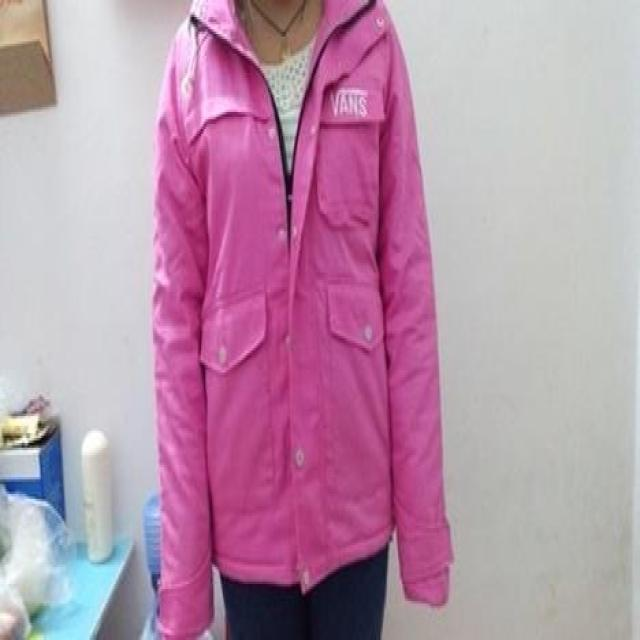long sleeve top: (153, 5, 449, 635)
